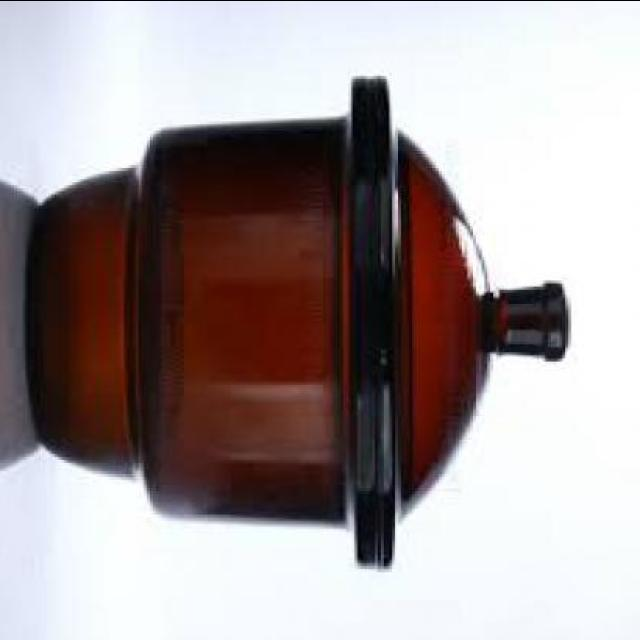kaca: (28, 78, 574, 572), (23, 78, 374, 565), (381, 78, 571, 568)
